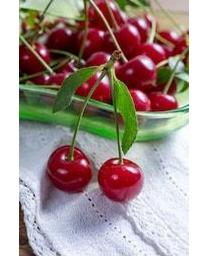cherry: (47, 144, 92, 193), (97, 157, 145, 201)
